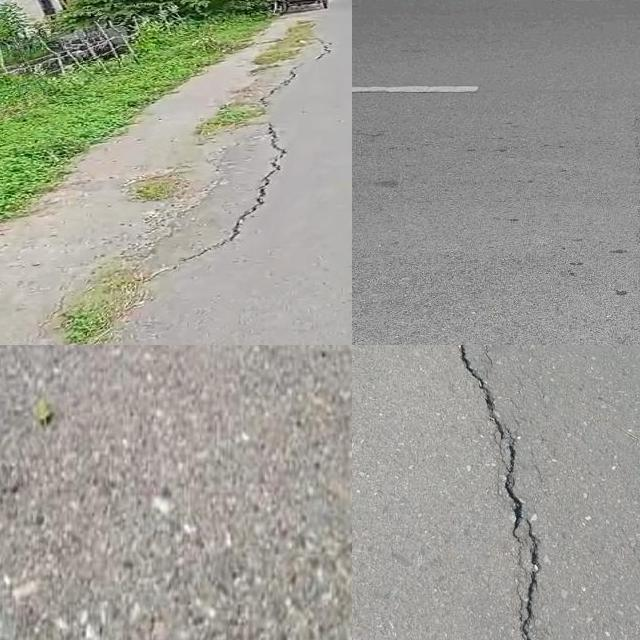Memanjang: (148, 52, 333, 279), (441, 345, 550, 640), (612, 0, 640, 345)
